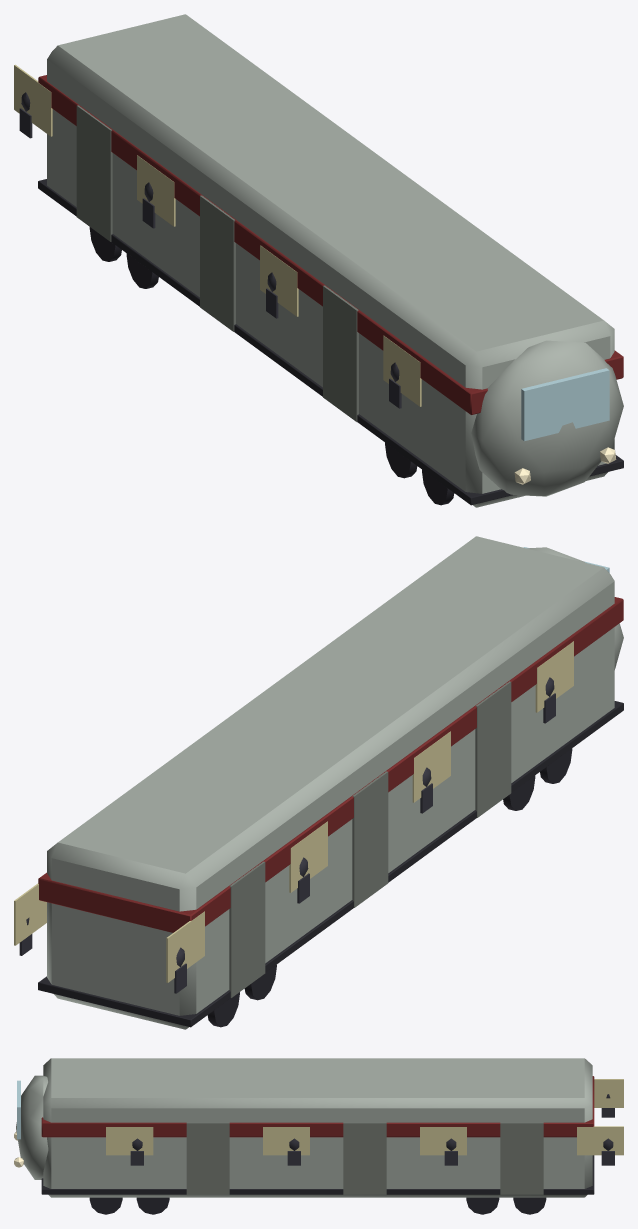
The model's file is subway_car.glb.
The picture shows the model from 3 angles, top to bottom: view 1: azimuth 30°, elevation 25°; view 2: azimuth 150°, elevation 25°; view 3: azimuth 270°, elevation 25°; orthographic projection. The views are drawn at different scales.
Parts seen in each view (by area): view 1: subway_car; view 2: subway_car; view 3: subway_car.
Part boxes in pixels (<box>): subway_car: <box>14,14,623,507</box>; subway_car: <box>14,536,623,1029</box>; subway_car: <box>14,1058,623,1214</box>.
Bounding box in the file's own units: 2.98 × 3.3 × 15.55.
